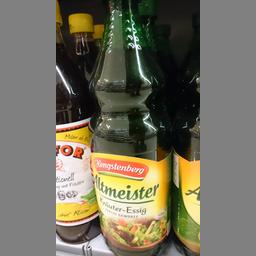vinegar: (87, 0, 174, 255), (54, 0, 100, 242)
